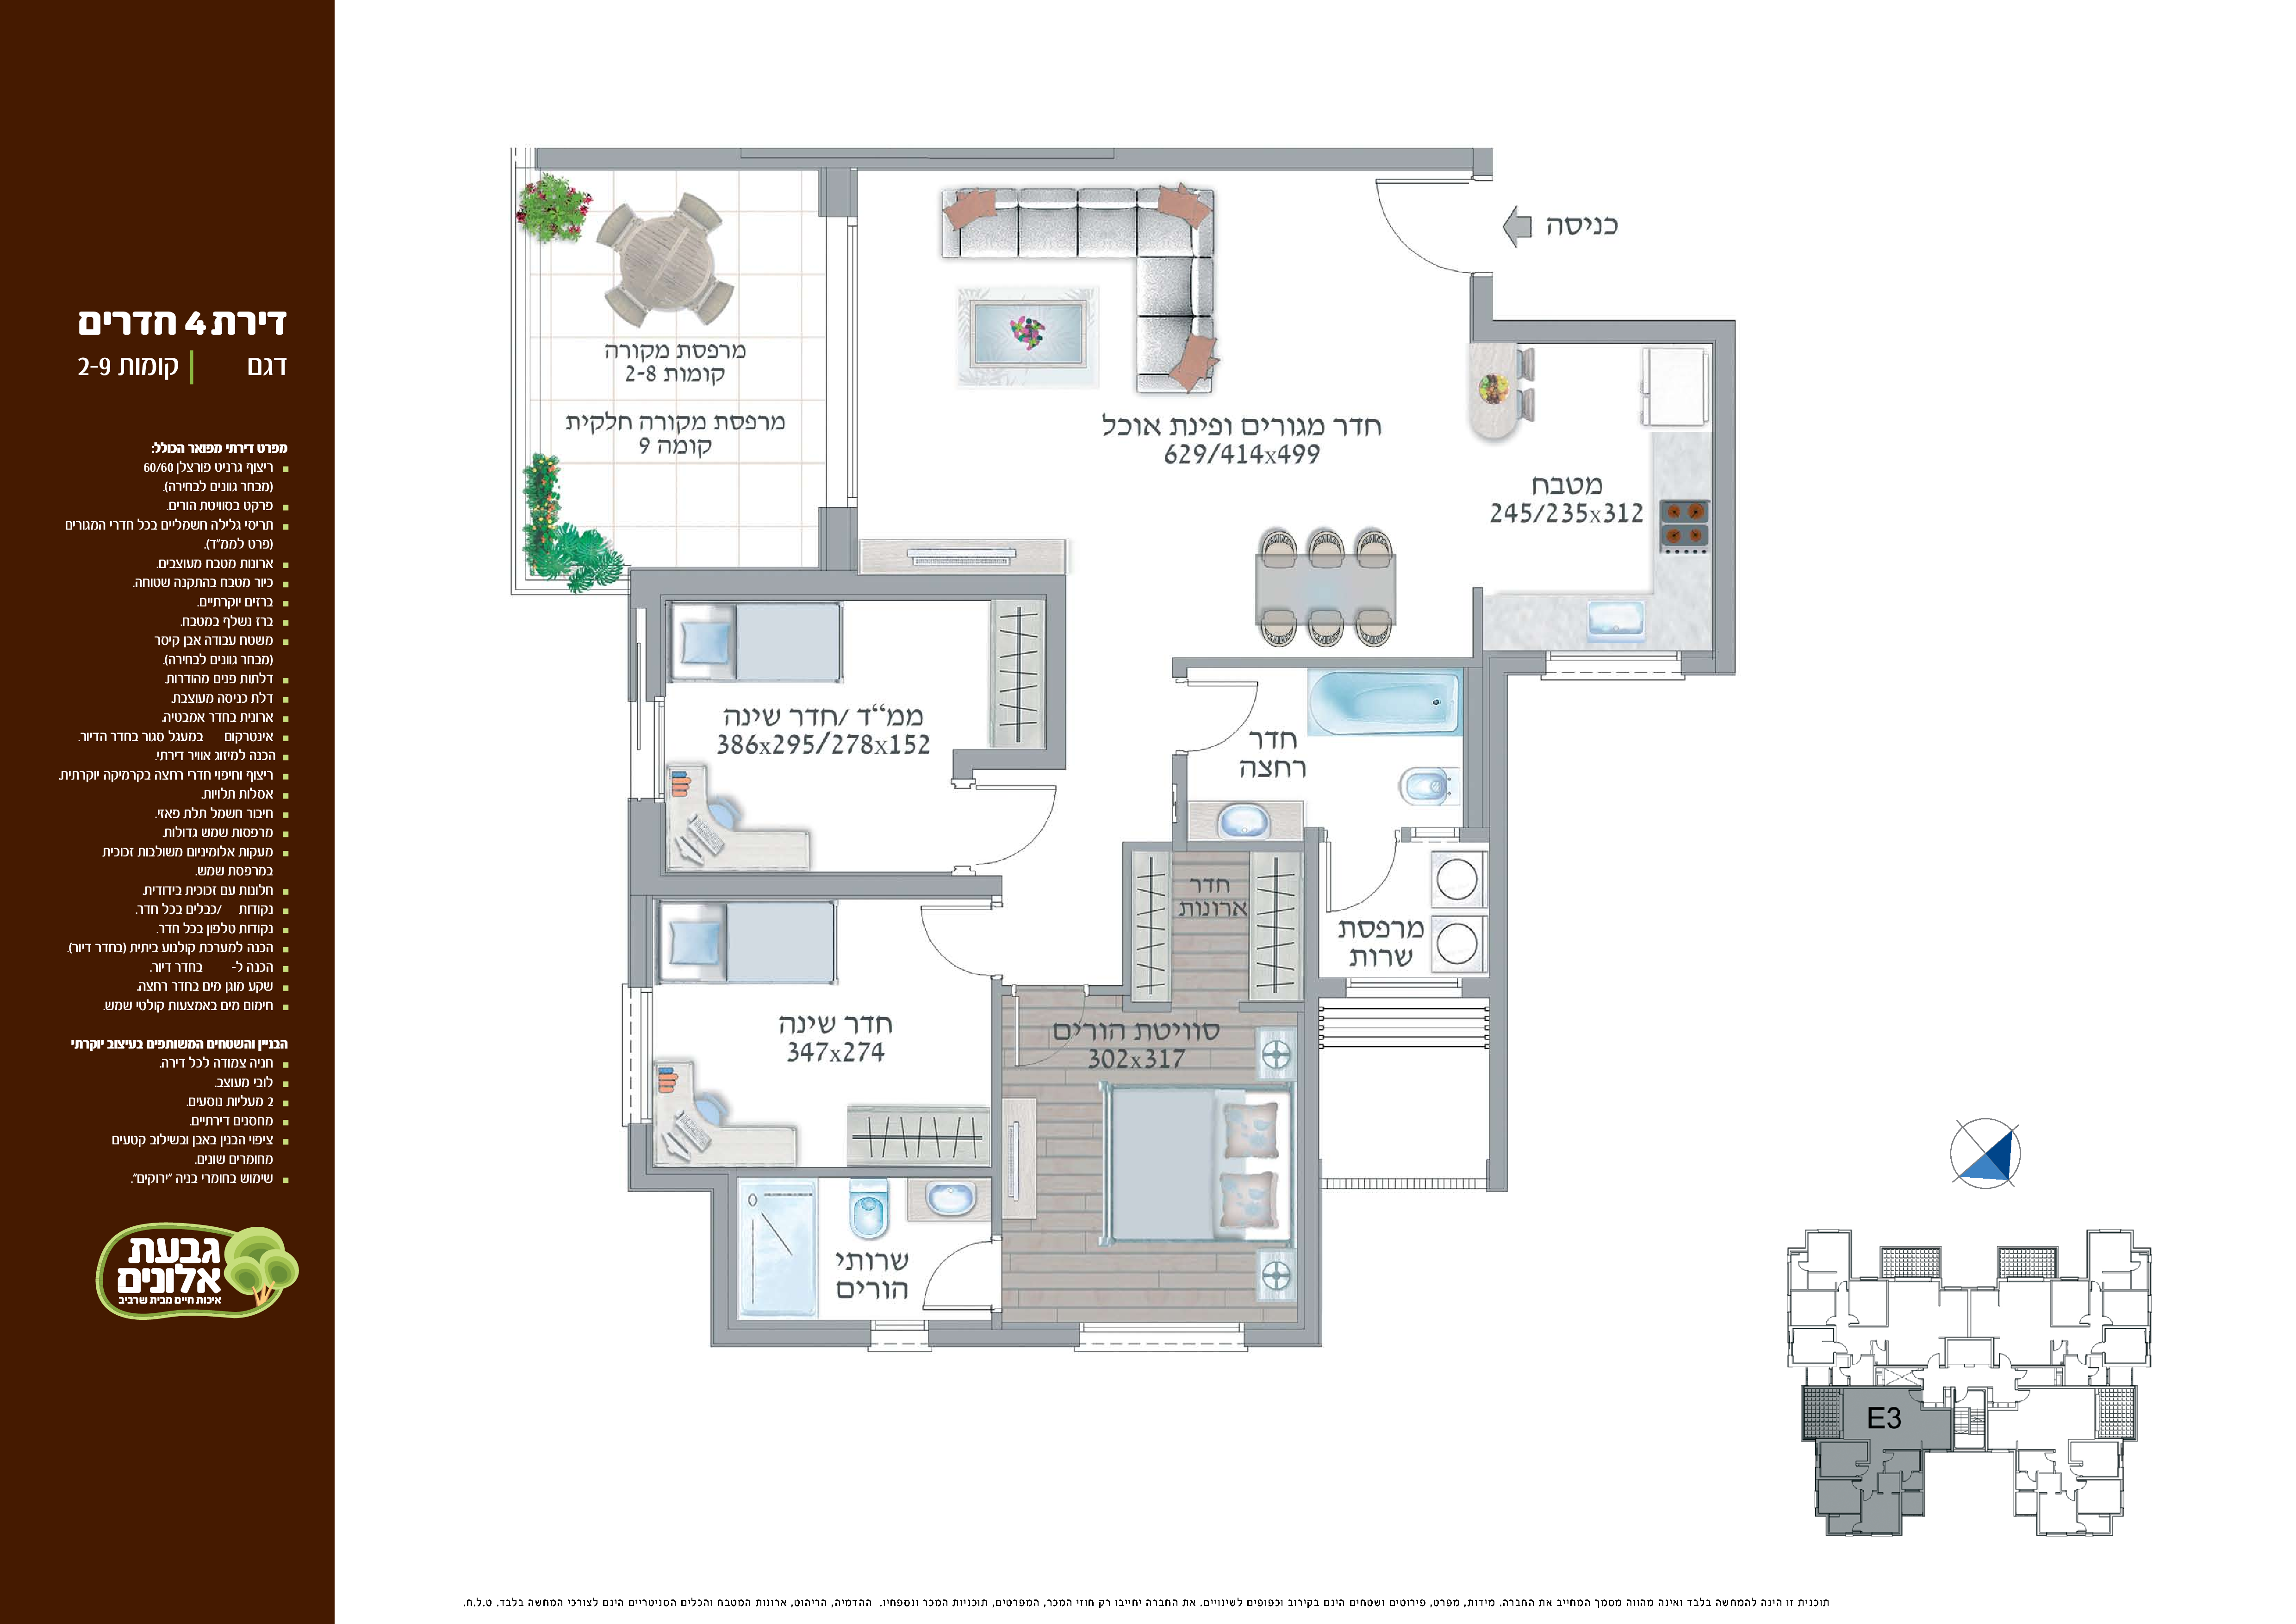door: (1358, 176, 1467, 286), (980, 772, 1082, 874), (894, 900, 982, 988), (1325, 845, 1412, 919), (915, 1241, 996, 1309)
wall: (1490, 673, 1507, 1190), (1716, 318, 1734, 678), (1047, 573, 1066, 766)
window: (840, 220, 859, 506)
